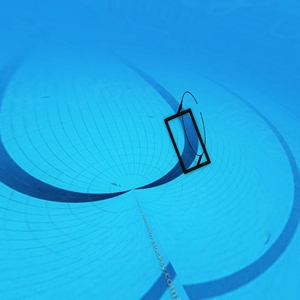circle: (162, 87, 220, 178)
